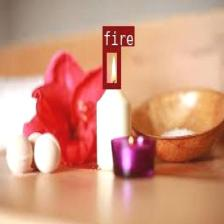fire: (103, 46, 120, 88)
